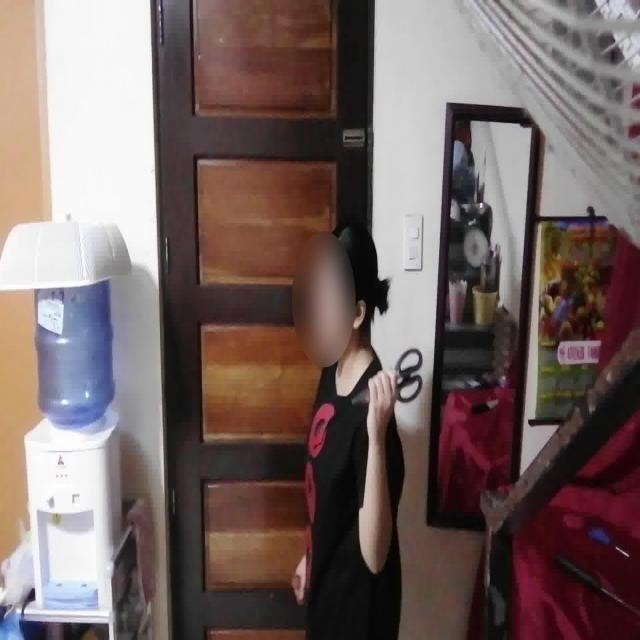scissor: (350, 345, 423, 405)
